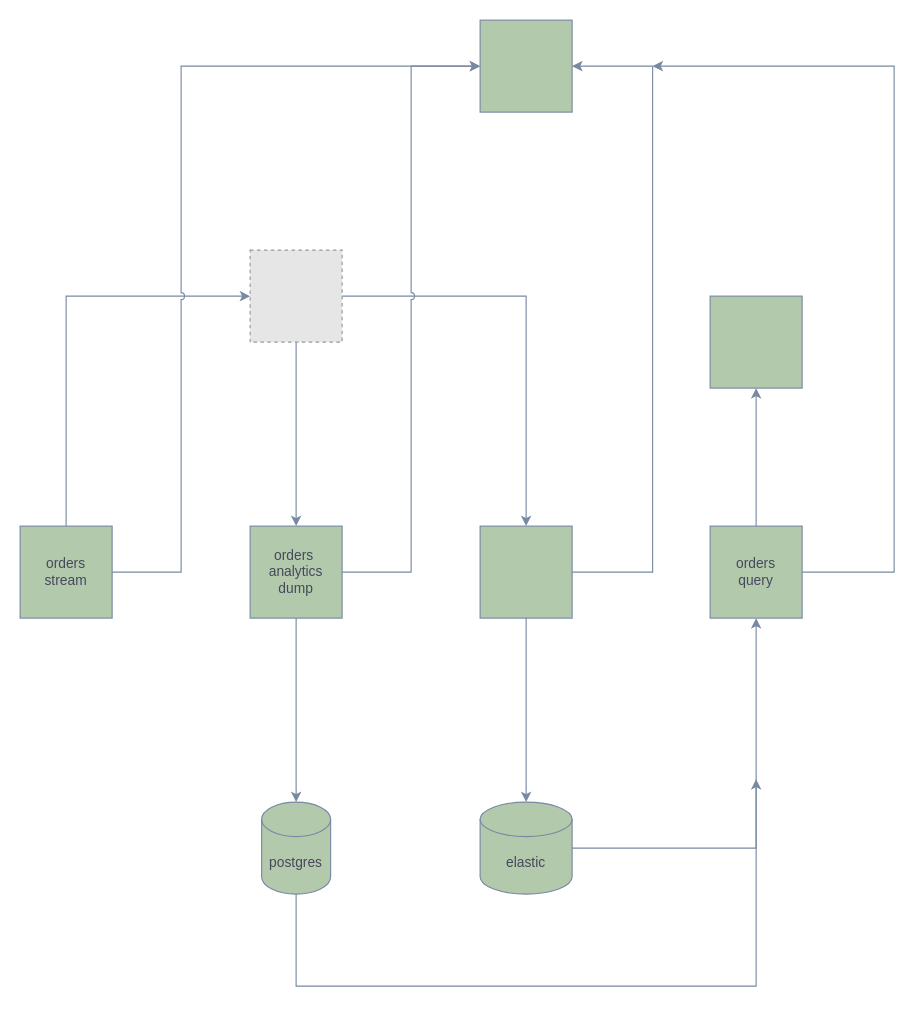
Some shapes in this 923 by 1015 pixel diagram are drawn without their labels. Grey dashed boxes stand in for pictures. The shapes that lost their labels are listed below. From the top down, each one's centre as x and y in pixels, then its label:
At [525,65]: "config server".
At [755,341]: "client".
At [525,571]: "orders feed".
